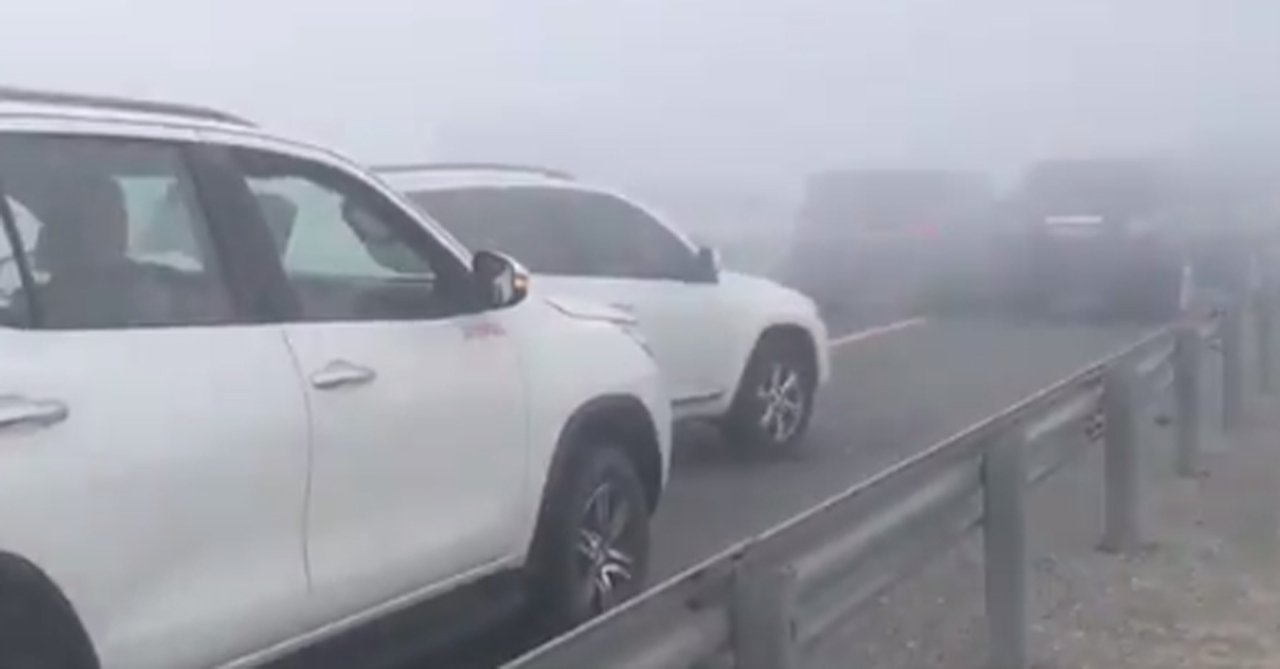car: (1, 87, 672, 658), (368, 151, 825, 456), (987, 146, 1265, 319), (785, 160, 1001, 330)
